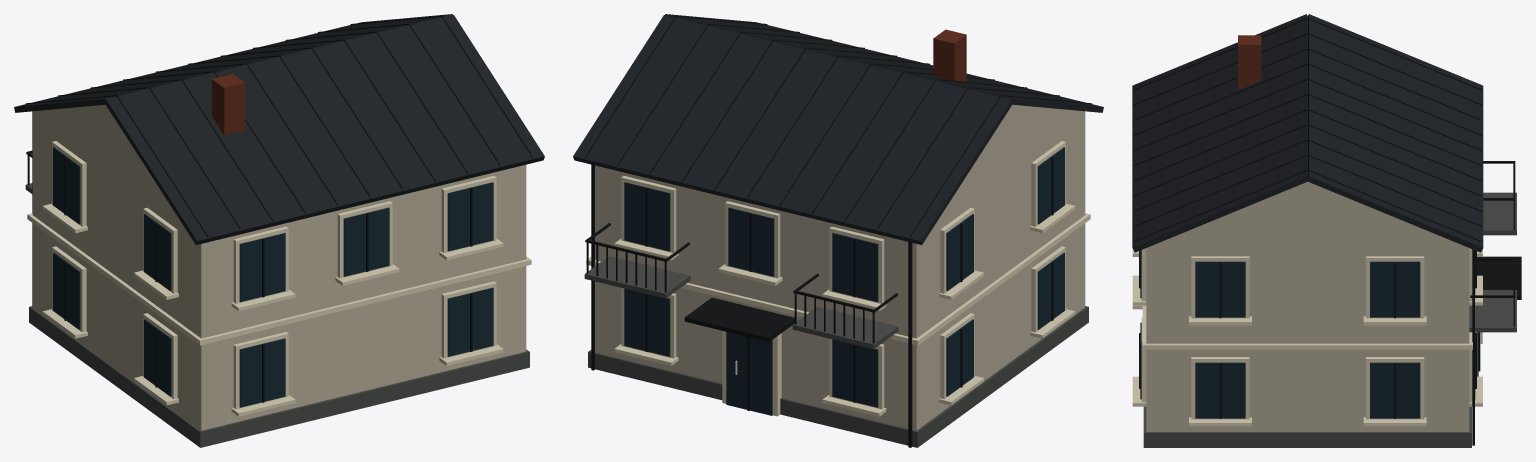
File: 03_GardenHouse.obj
3 renders of one model, left to right at view 1: azimuth 30°, elevation 25°; view 2: azimuth 150°, elevation 25°; view 3: azimuth 270°, elevation 25°, orthographic. The views are drawn at different scales.
Visible parts, largest first — view 1: Plaster, Roof, Glass, Trim, Base, Metal, Brick; view 2: Roof, Plaster, Glass, Trim, Metal, Base, Brick; view 3: Roof, Plaster, Glass, Metal, Trim, Base, Brick.
Part boxes in pixels (x1,y1,x2,y2): Plaster: [32, 104, 526, 430]; Roof: [14, 14, 544, 244]; Glass: [53, 147, 493, 407]; Trim: [27, 141, 531, 416]; Base: [25, 183, 529, 447]; Metal: [25, 15, 533, 402]; Brick: [212, 74, 245, 135]; Roof: [573, 14, 1103, 244]; Plaster: [595, 104, 1085, 430]; Glass: [624, 147, 1064, 415]; Trim: [586, 141, 1090, 416]; Metal: [584, 15, 1092, 447]; Base: [584, 256, 1088, 447]; Brick: [933, 29, 966, 81]; Roof: [1132, 14, 1483, 252]; Plaster: [1146, 181, 1469, 431]; Glass: [1140, 250, 1478, 418]; Metal: [1133, 18, 1521, 445]; Trim: [1132, 248, 1482, 426]; Base: [1143, 192, 1516, 447]; Brick: [1238, 35, 1261, 90].
Bounding box in the file's own units: 10.76 × 9 × 10.83.
